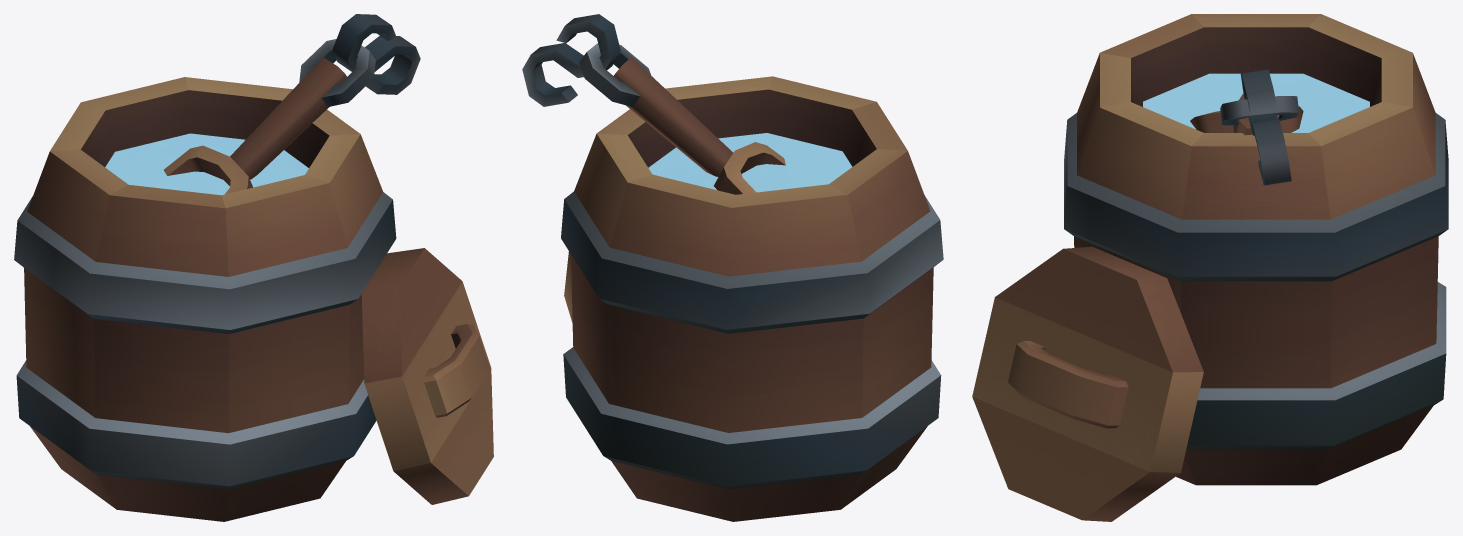
The model's file is barrel_water_open_laddle.fbx.
The picture shows the model from 3 angles, left to right: view 1: azimuth 30°, elevation 25°; view 2: azimuth 150°, elevation 25°; view 3: azimuth 270°, elevation 25°; orthographic projection. The views are drawn at different scales.
Visible parts, largest first — view 1: barrel_water_open_laddle; view 2: barrel_water_open_laddle; view 3: barrel_water_open_laddle.
Boxes of the visible parts, x1,y1,x2,y2 form: barrel_water_open_laddle: (14,14,493,521); barrel_water_open_laddle: (522,14,943,521); barrel_water_open_laddle: (972,14,1448,521).
Bounding box in the file's own units: 118 × 117 × 115.
